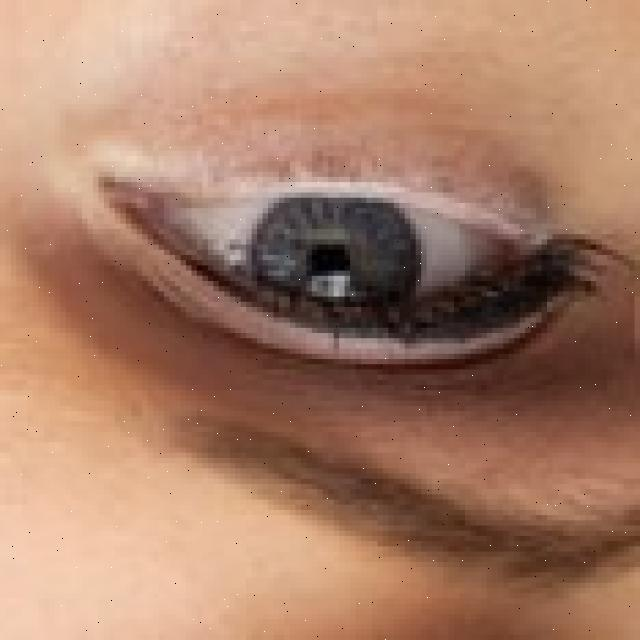Normal: (251, 181, 417, 344)
